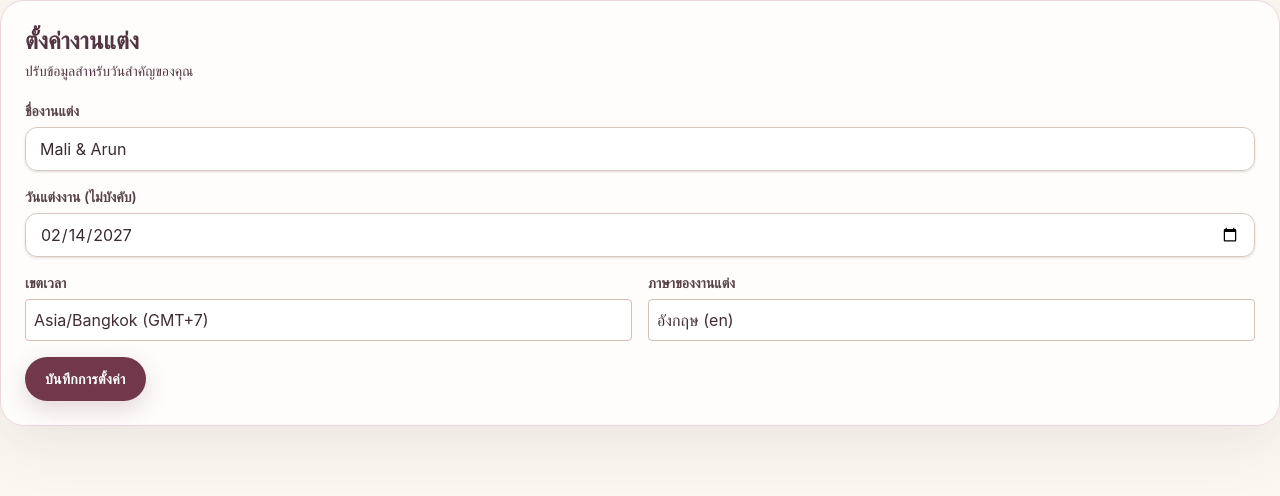
Test: WeddingSettingsForm › retains the draft on failure and reports a localized retryable error
This screenshot has width=1280, height=496.
Replace the text in the field labelled "ชื่องานแต่ง" with "วันของเรา" at (640, 149), box top-left (25, 127), bottom-right (1255, 171)
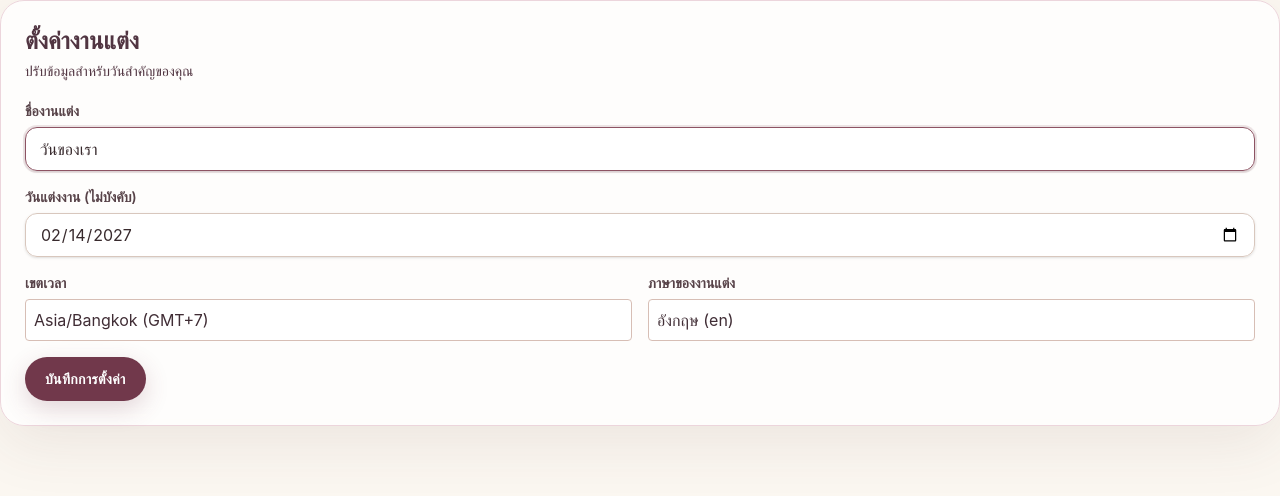
Click the button "บันทึกการตั้งค่า" at (85, 379), box top-left (25, 357), bottom-right (146, 401)
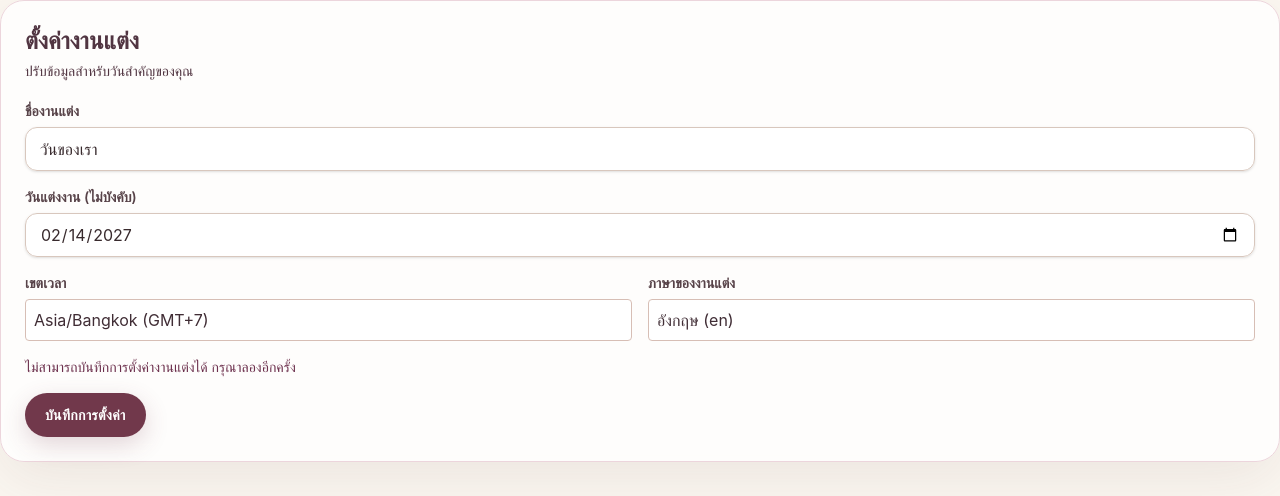
Result: the message "ไม่สามารถบันทึกการตั้งค่างานแต่งได้ กรุณาลองอีกครั้ง" is shown at top-left (25, 358), bottom-right (296, 375)
